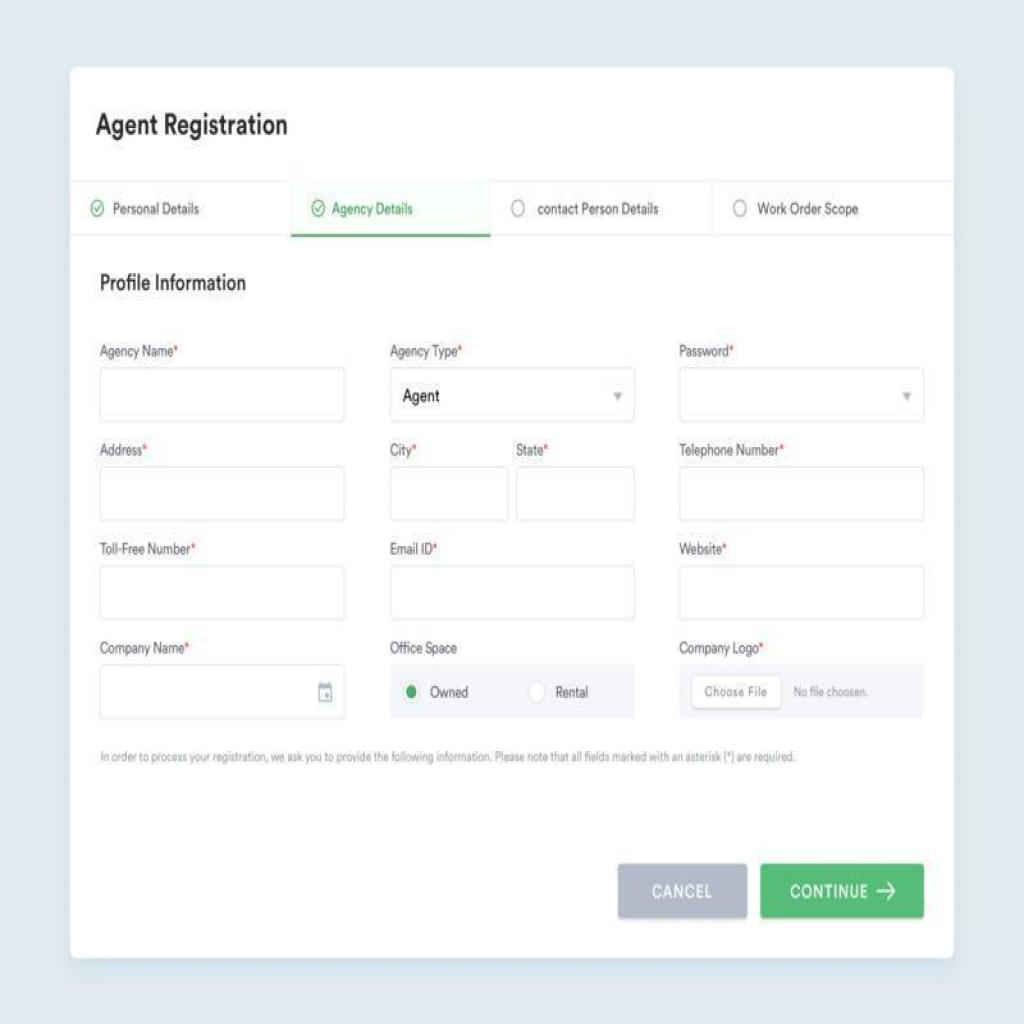button: (762, 865, 926, 918), (618, 864, 748, 918), (691, 678, 781, 706)
dropdown: (386, 364, 638, 426), (678, 365, 923, 425)
icon: (315, 676, 335, 705)
input: (678, 563, 927, 623), (98, 563, 346, 621), (100, 365, 346, 422), (389, 565, 635, 619), (101, 666, 344, 720), (677, 468, 923, 520), (100, 468, 346, 518), (514, 466, 635, 524), (388, 468, 511, 524)
label: (98, 264, 248, 297), (677, 437, 785, 459), (98, 538, 198, 558), (676, 638, 765, 657), (98, 638, 190, 656), (388, 340, 464, 360), (98, 341, 176, 360), (390, 638, 462, 657), (677, 341, 737, 360), (675, 539, 727, 560), (389, 538, 437, 556), (554, 683, 590, 705), (388, 435, 416, 461), (428, 684, 472, 700), (513, 440, 552, 458), (100, 444, 147, 457)
radio: (526, 679, 548, 703), (508, 193, 526, 222), (730, 196, 750, 220), (310, 195, 328, 220), (91, 196, 106, 218), (402, 681, 418, 701)
